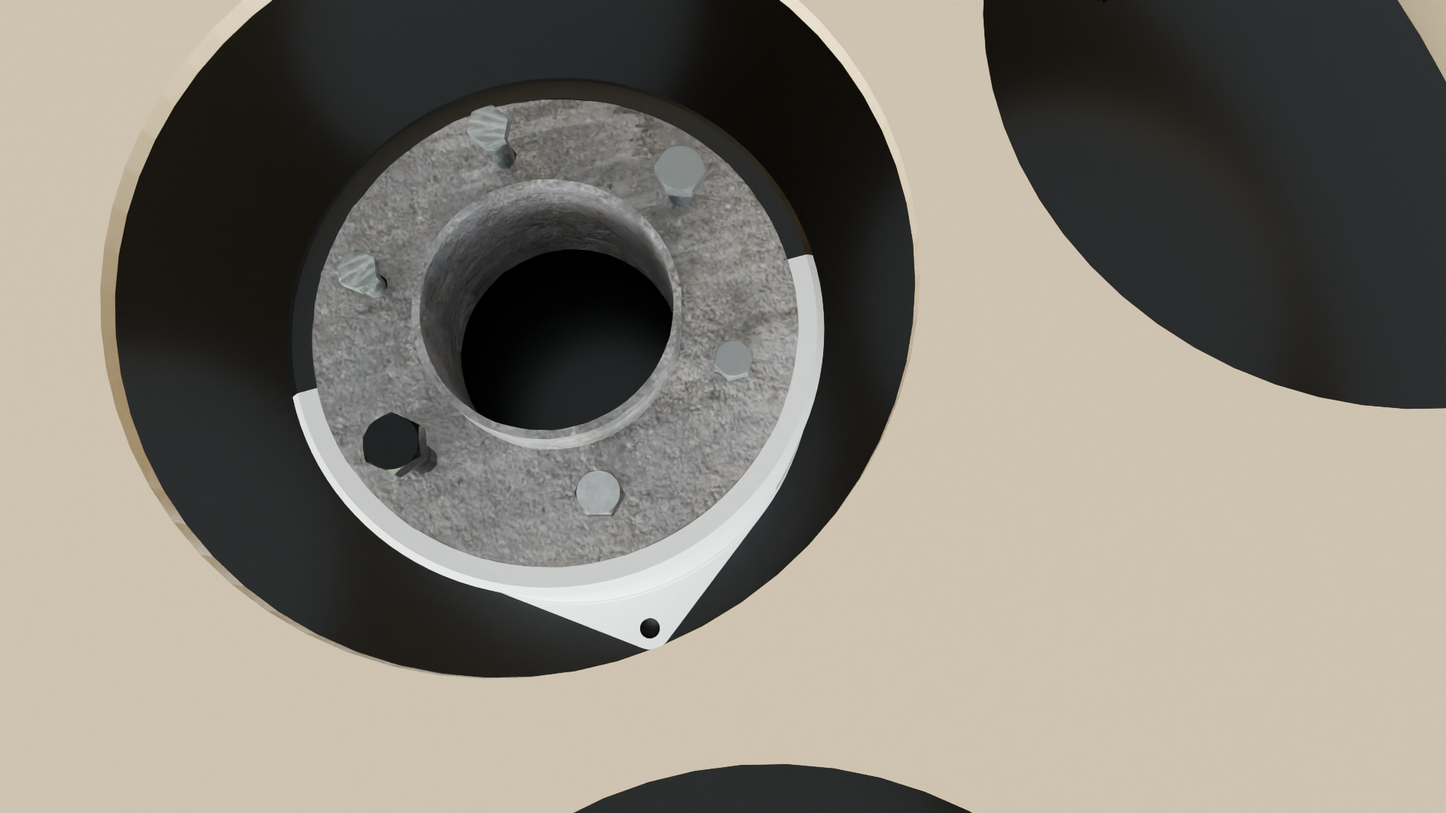bolt: (363, 412, 421, 475), (654, 146, 706, 190), (574, 470, 624, 515), (468, 105, 508, 145), (337, 250, 377, 290), (713, 340, 753, 378)
